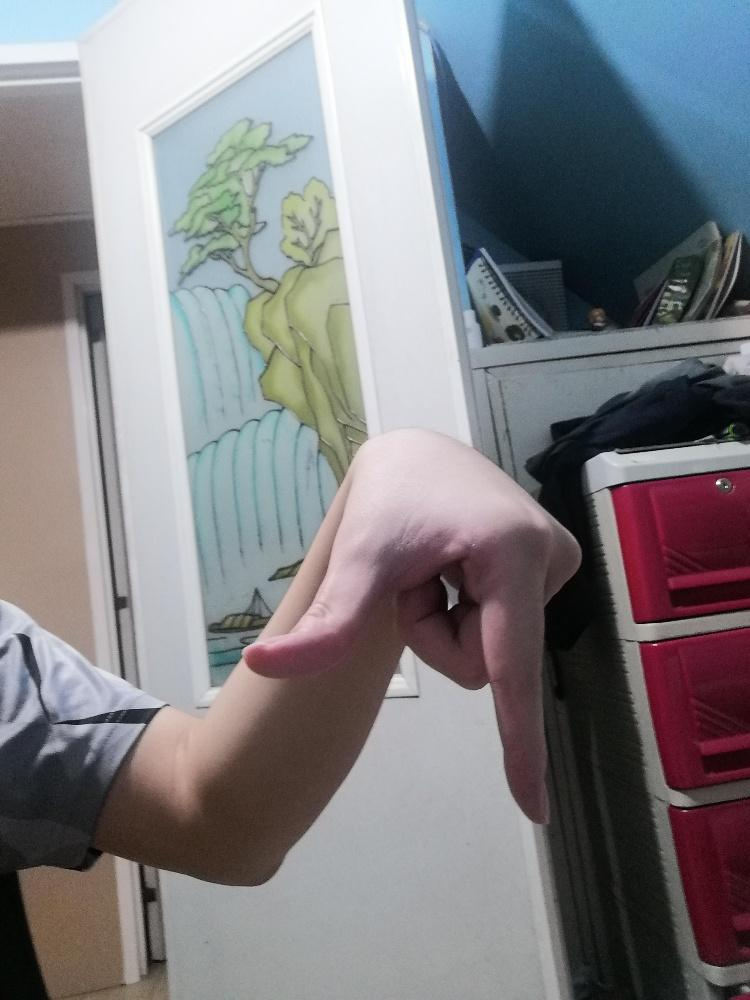q: (240, 430, 580, 824)
